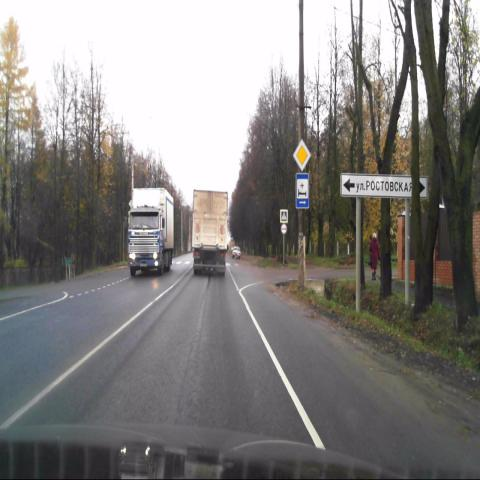7_2: (295, 172, 309, 208)
